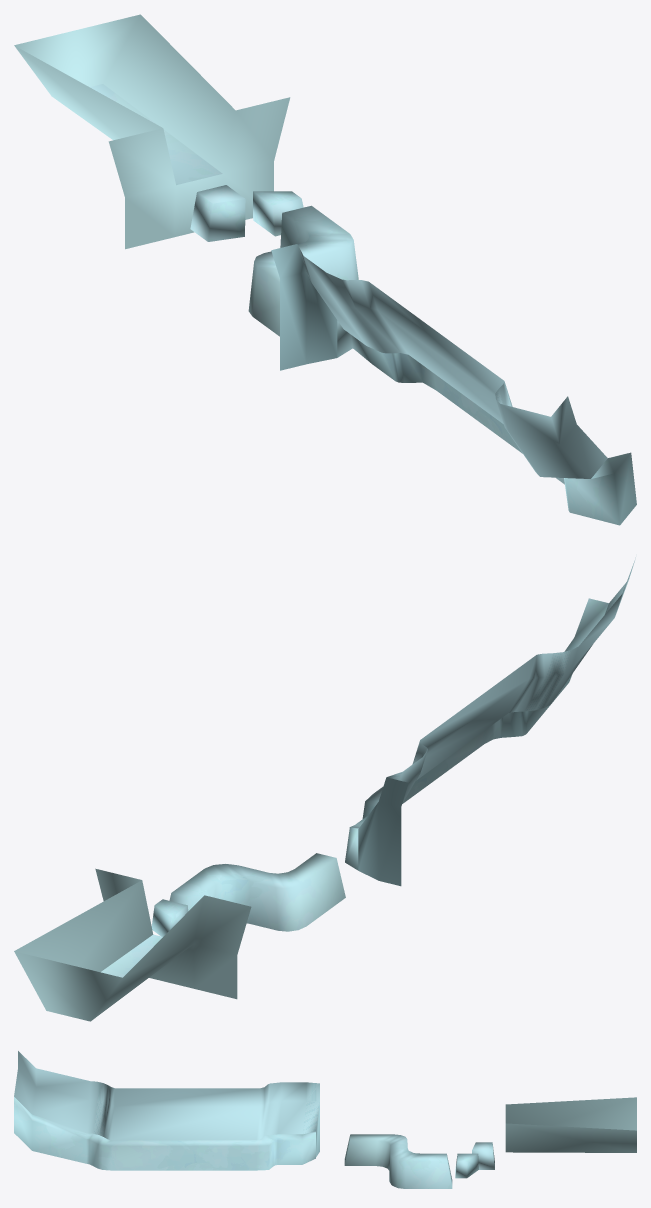
The picture shows the model from 3 angles, top to bottom: view 1: azimuth 30°, elevation 25°; view 2: azimuth 150°, elevation 25°; view 3: azimuth 270°, elevation 25°; orthographic projection. The views are drawn at different scales.
Parts seen in each view (by area): view 1: Track.001; view 2: Track.001; view 3: Track.001.
Boxes of the visible parts, bbox=[...] form: Track.001: bbox=[14, 14, 636, 525]; Track.001: bbox=[14, 557, 635, 1021]; Track.001: bbox=[14, 1051, 636, 1188].
Bounding box in the file's own units: 41044 × 38463 × 214545.
